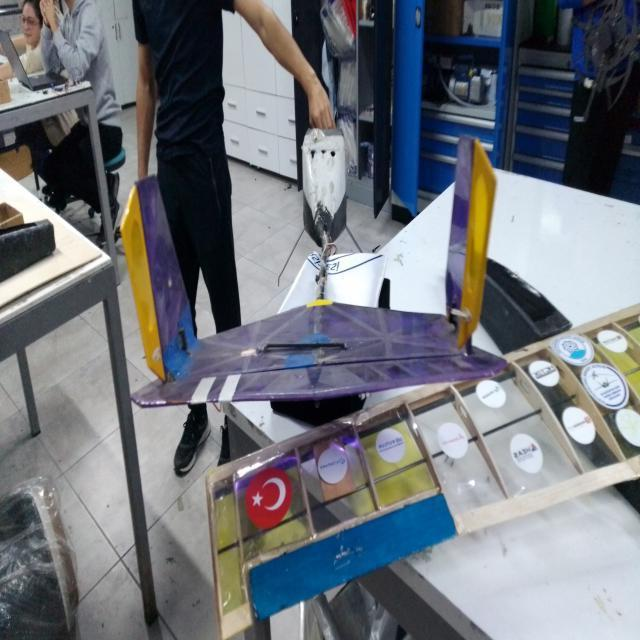iha: (108, 124, 519, 417)
